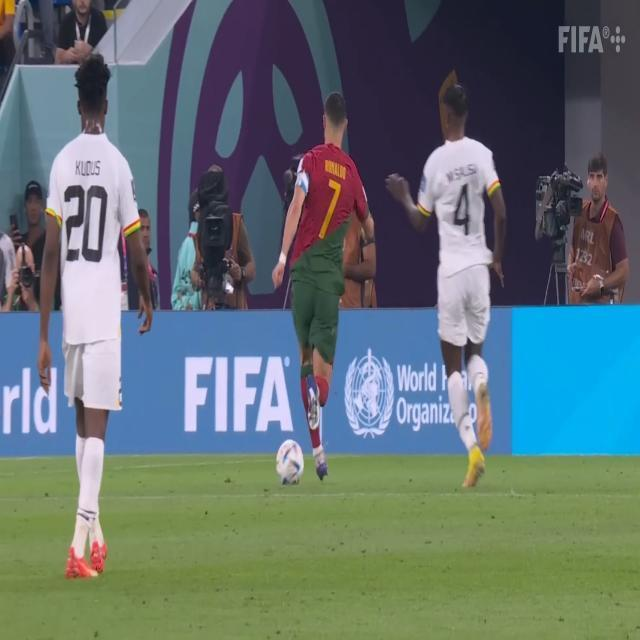football: (268, 442, 321, 490)
